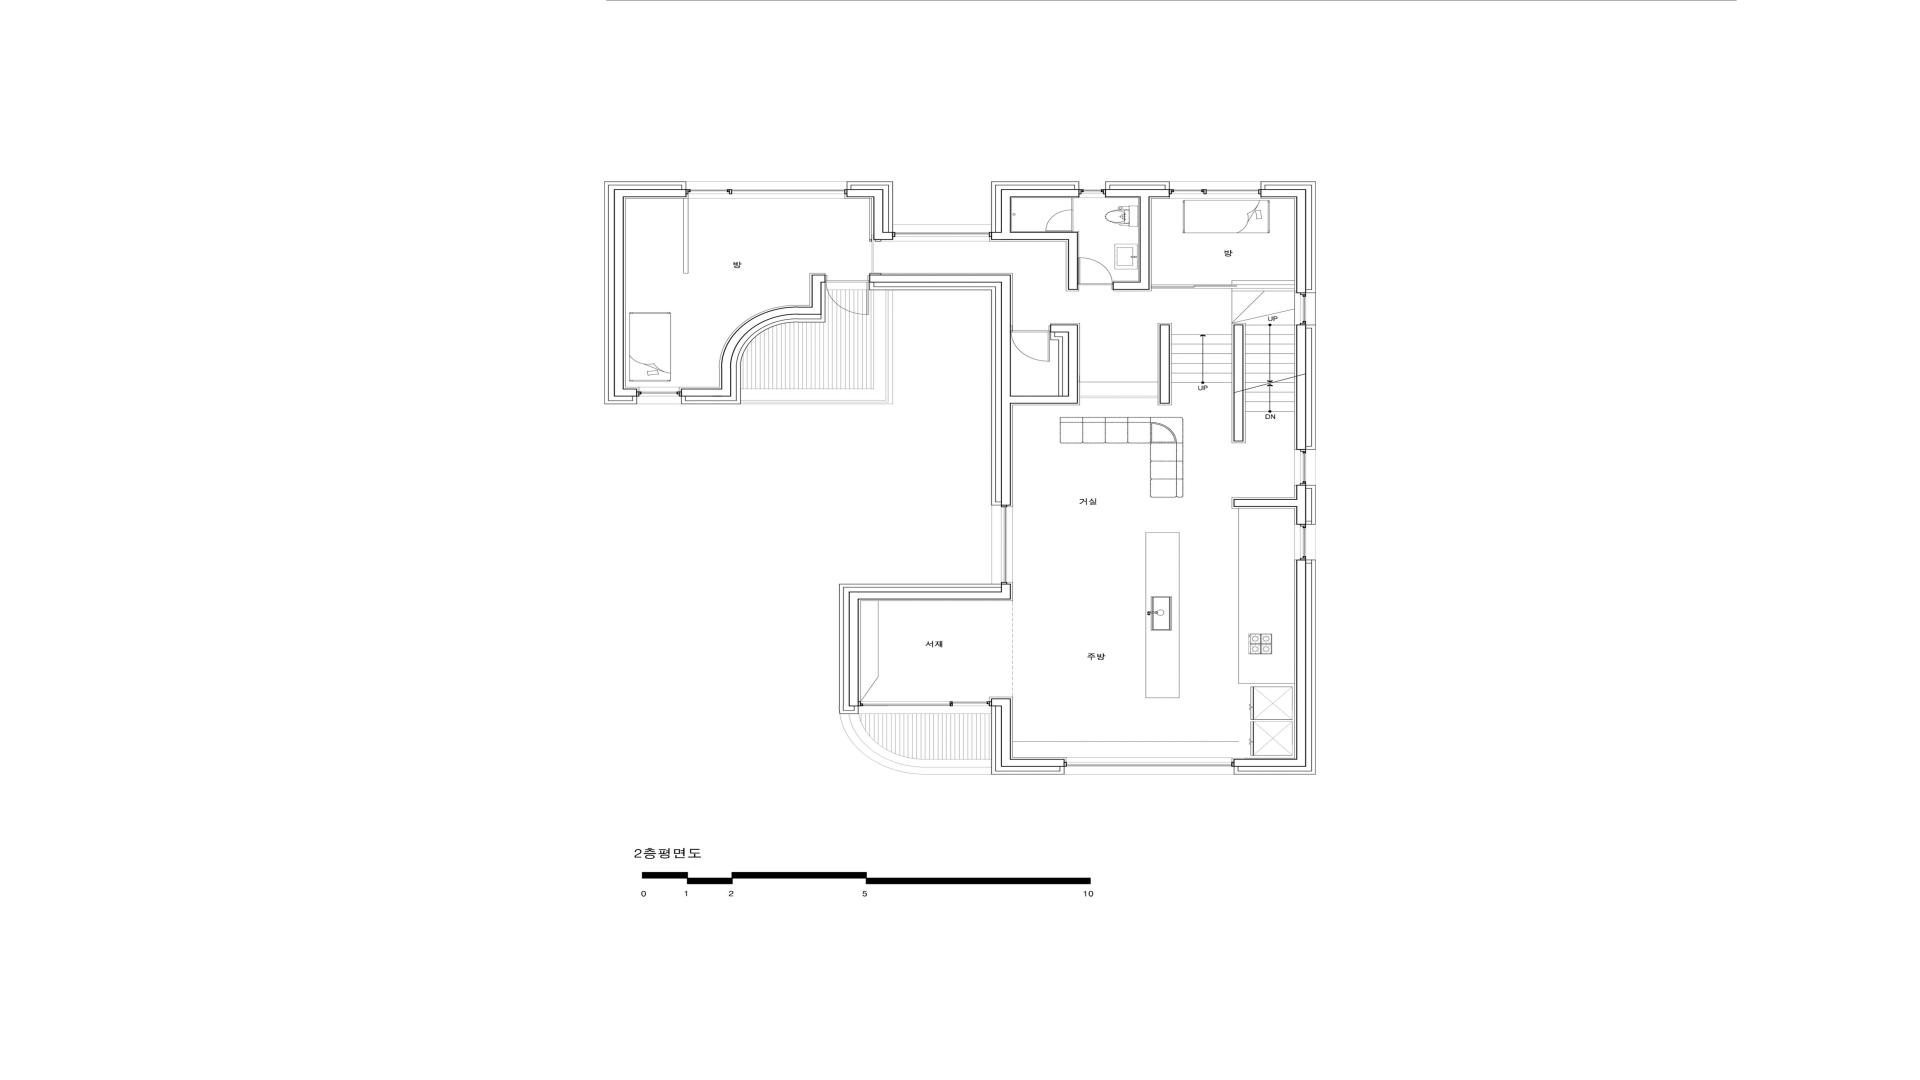door: (825, 274, 869, 315), (1011, 326, 1050, 361), (1150, 280, 1296, 289), (1077, 257, 1113, 290), (1046, 210, 1073, 231), (869, 240, 881, 274)
wall: (1001, 274, 1011, 505), (1296, 559, 1307, 767), (613, 198, 624, 389), (1296, 324, 1307, 450), (1233, 324, 1244, 442), (849, 592, 1001, 600), (869, 274, 1001, 282), (849, 600, 858, 707), (1139, 198, 1150, 290), (1296, 198, 1305, 293), (1159, 324, 1170, 404), (613, 189, 687, 198), (992, 232, 1077, 240), (1001, 707, 1011, 767), (1001, 189, 1080, 196), (1105, 189, 1170, 198), (1068, 332, 1077, 396), (1233, 758, 1296, 767), (1011, 396, 1077, 404), (1233, 498, 1296, 506), (1011, 758, 1064, 767), (1068, 240, 1077, 290), (873, 189, 884, 232), (1261, 189, 1307, 198), (811, 274, 822, 314), (1296, 485, 1307, 525), (680, 389, 732, 397), (1001, 196, 1011, 232), (847, 189, 873, 198), (721, 368, 732, 389), (1050, 324, 1077, 332), (1113, 282, 1139, 290), (613, 389, 637, 397), (1001, 584, 1011, 600), (873, 232, 893, 240), (992, 699, 1011, 707), (727, 338, 738, 348), (731, 332, 742, 343), (736, 327, 748, 338), (741, 322, 752, 334), (746, 318, 757, 330), (753, 314, 764, 326), (767, 309, 779, 319), (723, 345, 736, 355), (798, 306, 812, 314), (721, 352, 733, 361), (761, 311, 770, 322), (778, 307, 789, 316), (787, 306, 798, 315), (721, 360, 732, 368), (1071, 196, 1073, 210), (822, 274, 825, 282), (858, 702, 861, 707), (989, 702, 992, 705)
window: (1064, 762, 1233, 767), (686, 189, 847, 194), (861, 702, 989, 707), (893, 232, 992, 237), (1001, 505, 1007, 584), (1170, 189, 1261, 194), (1300, 450, 1307, 485), (637, 392, 680, 397), (1300, 525, 1305, 559), (1300, 293, 1305, 324), (1079, 189, 1105, 194)
